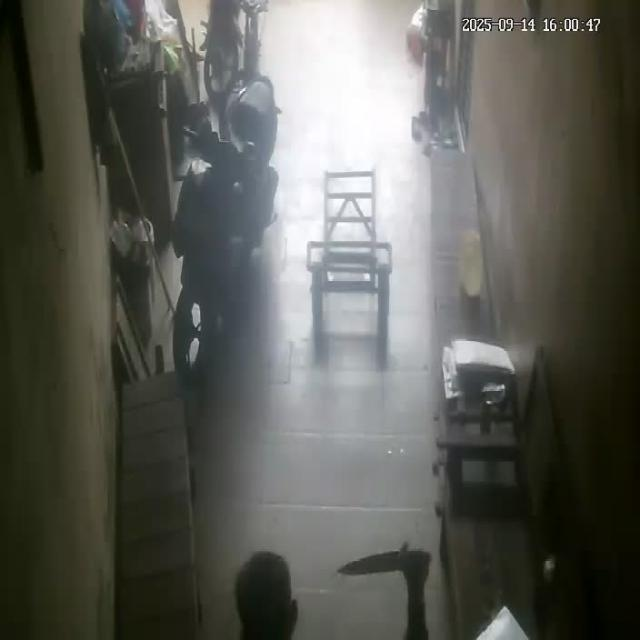senjata_tajam: (335, 545, 403, 579)
